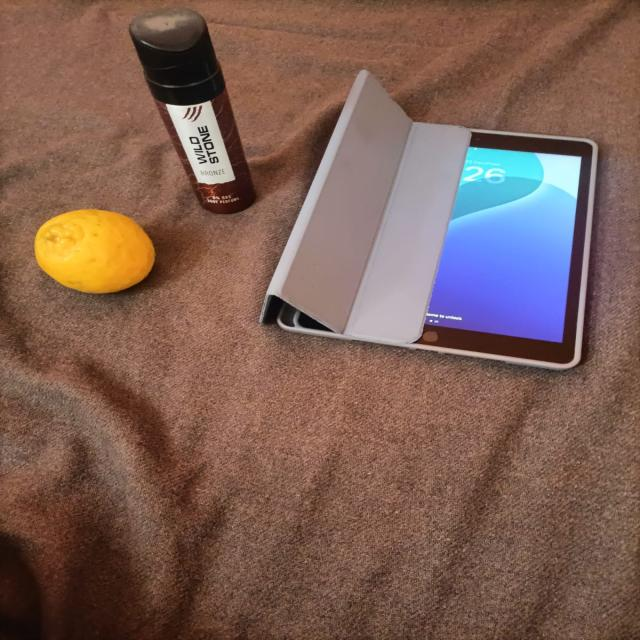orange: (12, 202, 169, 302)
spray: (82, 8, 281, 223)
tablet: (257, 66, 601, 393)
